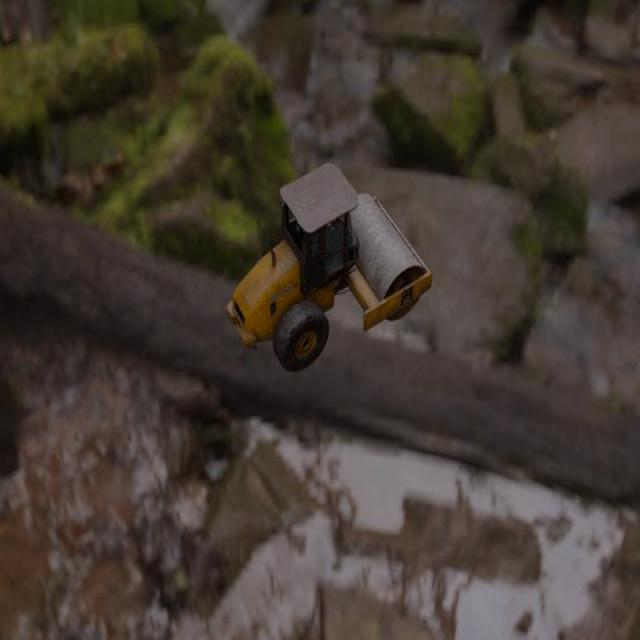Roller: (225, 161, 432, 372)
